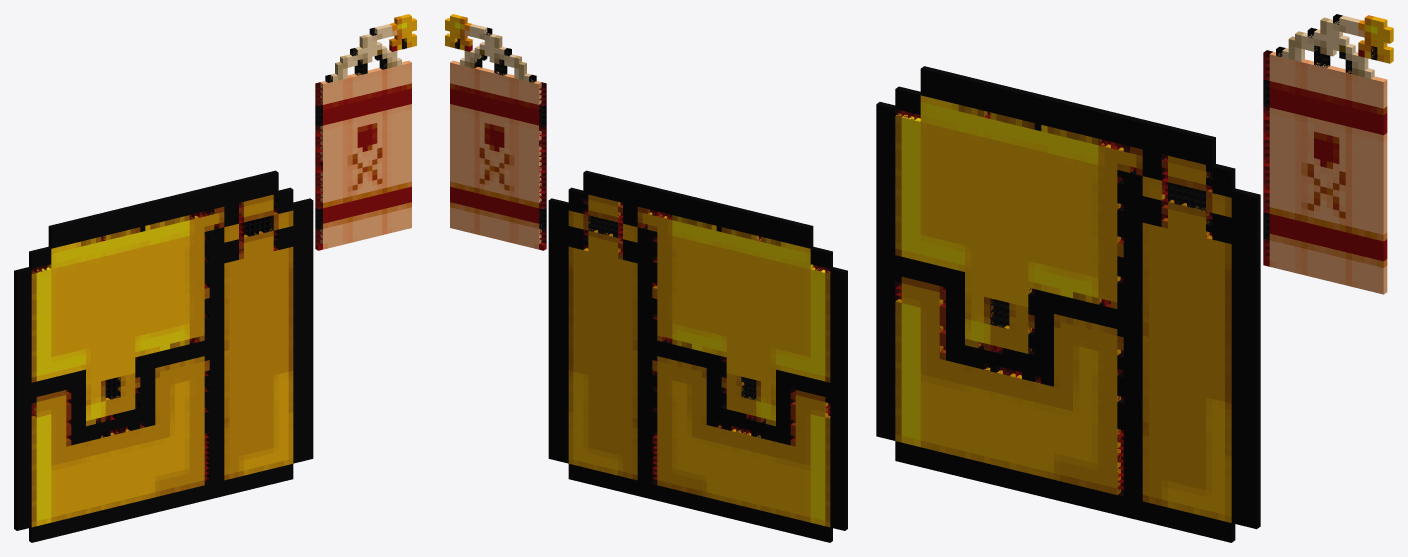
The model's file is bigbagexplosive.fbx.
3 views of the same model, side by side, from view 1: azimuth 30°, elevation 25°; view 2: azimuth 150°, elevation 25°; view 3: azimuth 330°, elevation 25° (orthographic). The views are drawn at different scales.
Parts seen in each view (by area): view 1: bigbagexplosive; view 2: bigbagexplosive; view 3: bigbagexplosive.
Boxes of the visible parts, bbox=[...] form: bigbagexplosive: bbox=[14, 14, 416, 542]; bigbagexplosive: bbox=[445, 14, 847, 542]; bigbagexplosive: bbox=[876, 14, 1393, 542].
Size of the model in its own units: 8004 by 8300 by 98.81.
